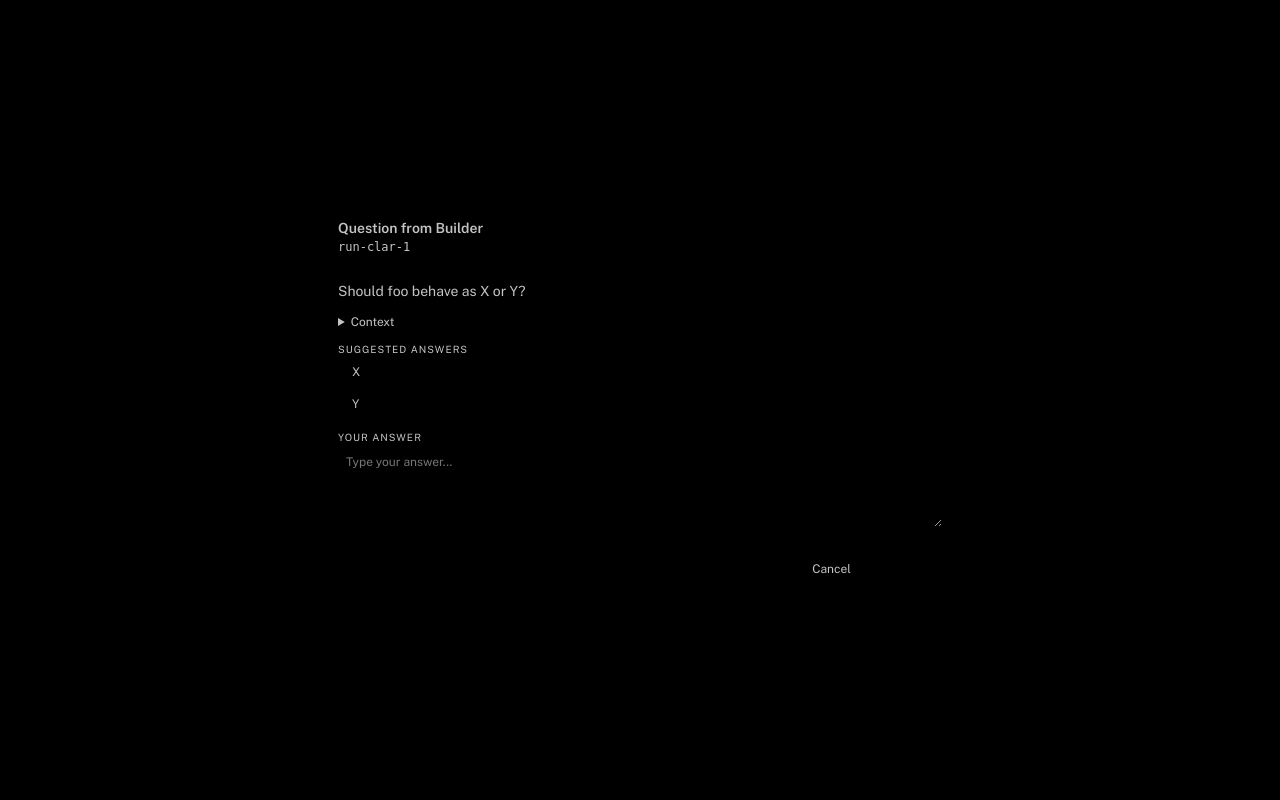
Test: ClarificationModal › Option click pre-fills textarea (does not auto-submit)
What coordinates should you click on to do the following:
click the button with test id "clarification-option-1"
I would click on:
 (356, 404)
Its box is [338,391,942,417].
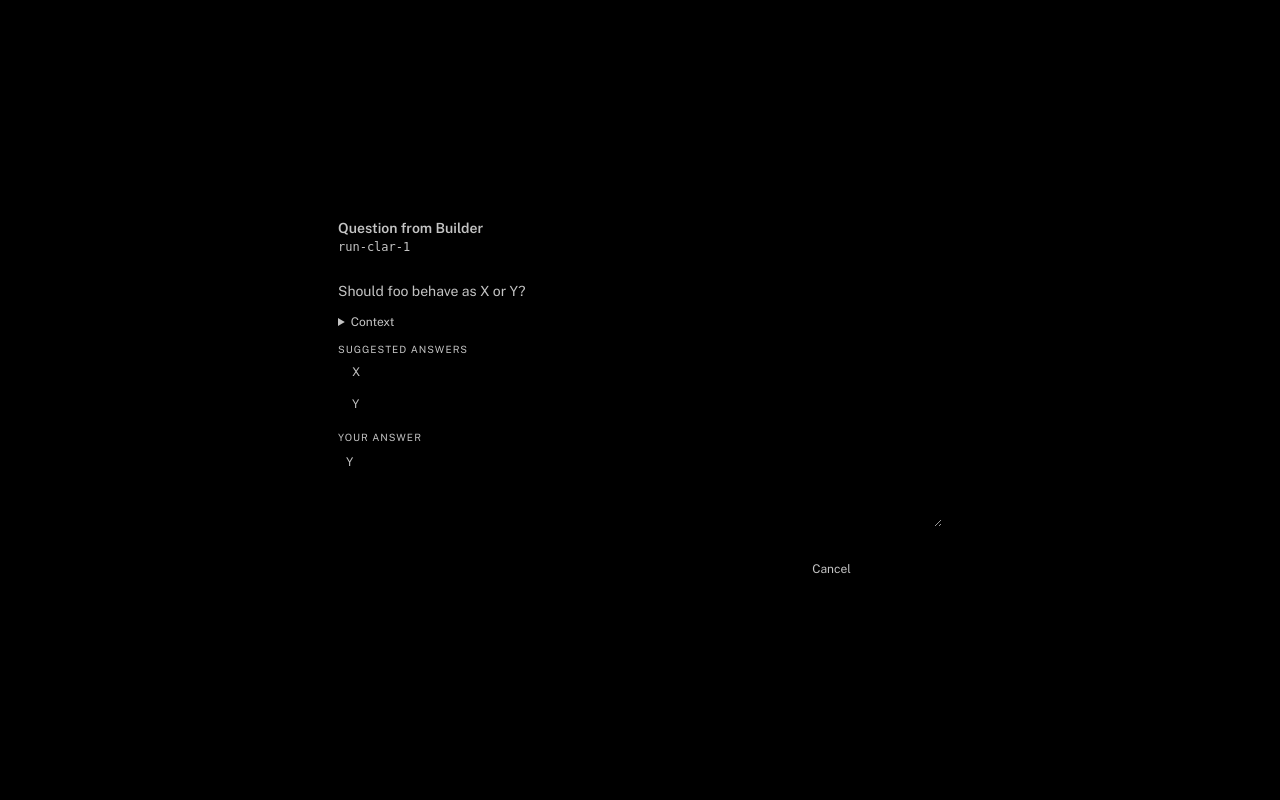
Check: the text box with test id "clarification-textarea" holds "Y", box [338,447,942,527]
